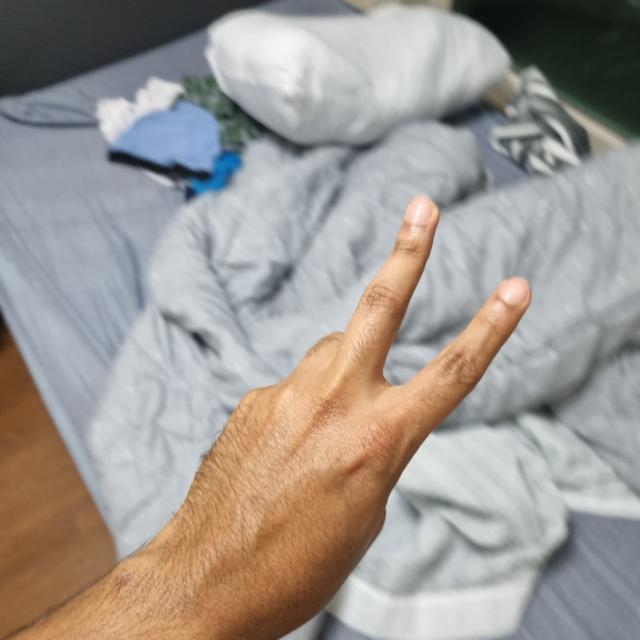Scissors: (166, 196, 531, 639)
